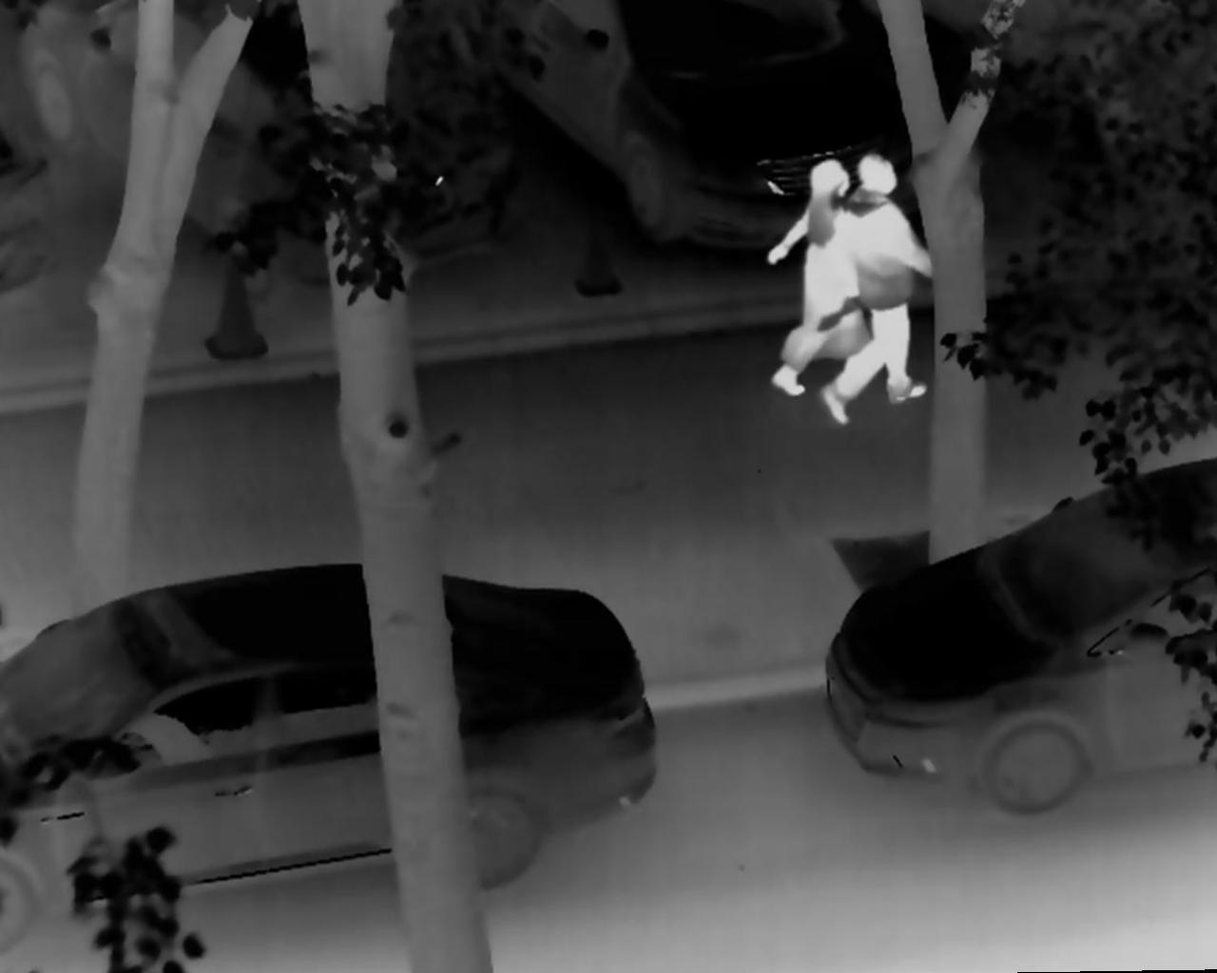person: (821, 147, 939, 428), (771, 146, 875, 403)
